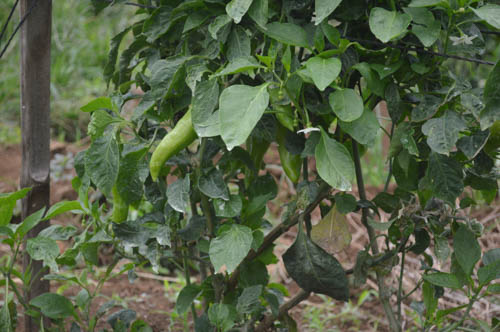ChiliPepper: (150, 104, 212, 182), (278, 130, 304, 182)
